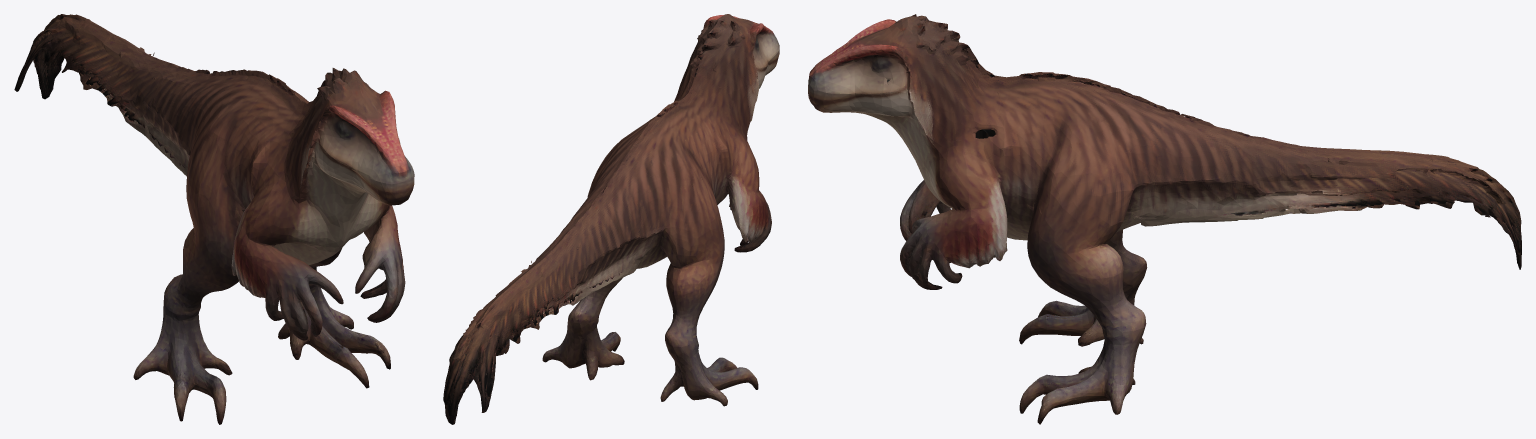
3 views of the same model, side by side, from view 1: azimuth 30°, elevation 25°; view 2: azimuth 150°, elevation 25°; view 3: azimuth 270°, elevation 25° (orthographic). The views are drawn at different scales.
Visible parts, largest first — view 1: world; view 2: world; view 3: world.
Part boxes in pixels (bbox=[...]): world: bbox=[14, 14, 414, 424]; world: bbox=[443, 14, 779, 424]; world: bbox=[808, 14, 1521, 424].
Size of the model in its own units: 0.3444 by 0.5622 by 1.
Materials: 1 (1 with a texture image).
